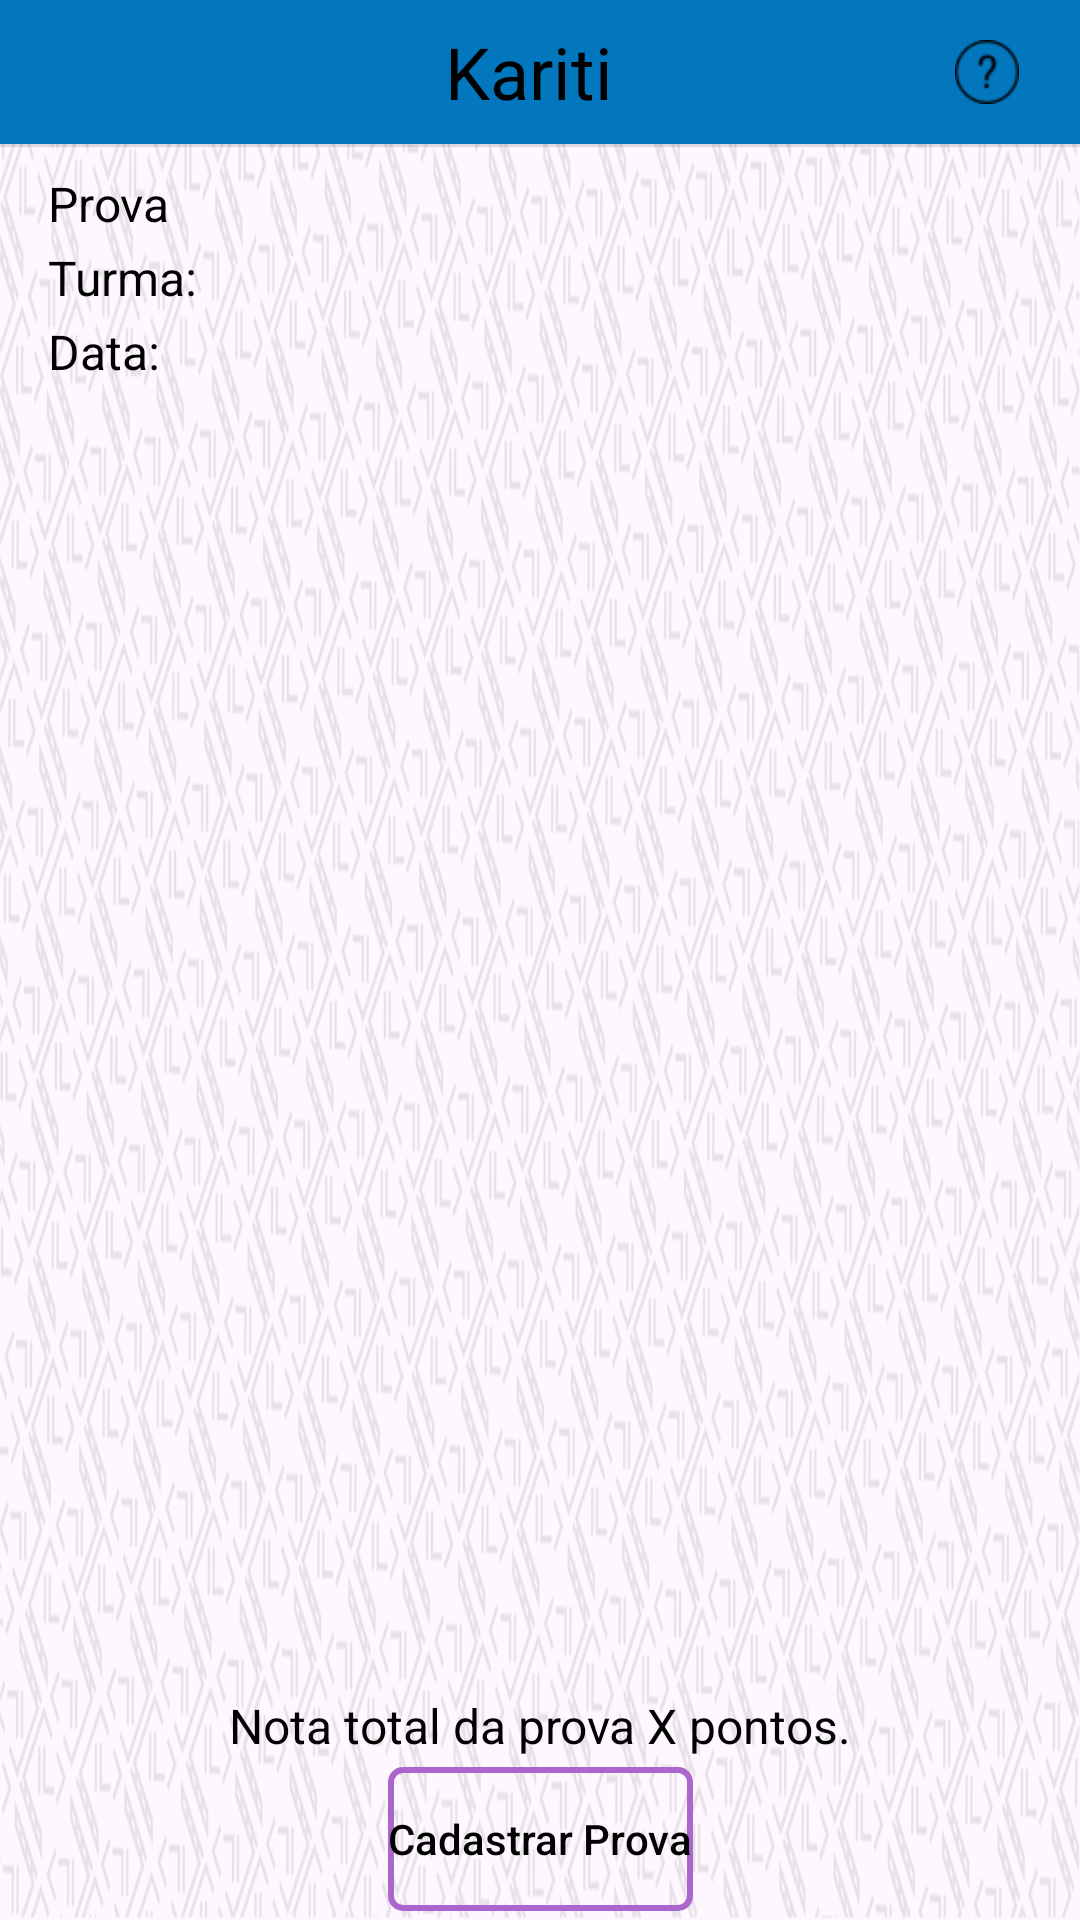

Locate icon controls on the screen. Image size 1080w x 1920h, boxes as box=[x1, y1, x2, y2].
Ajuda: box=[955, 40, 1019, 104]
